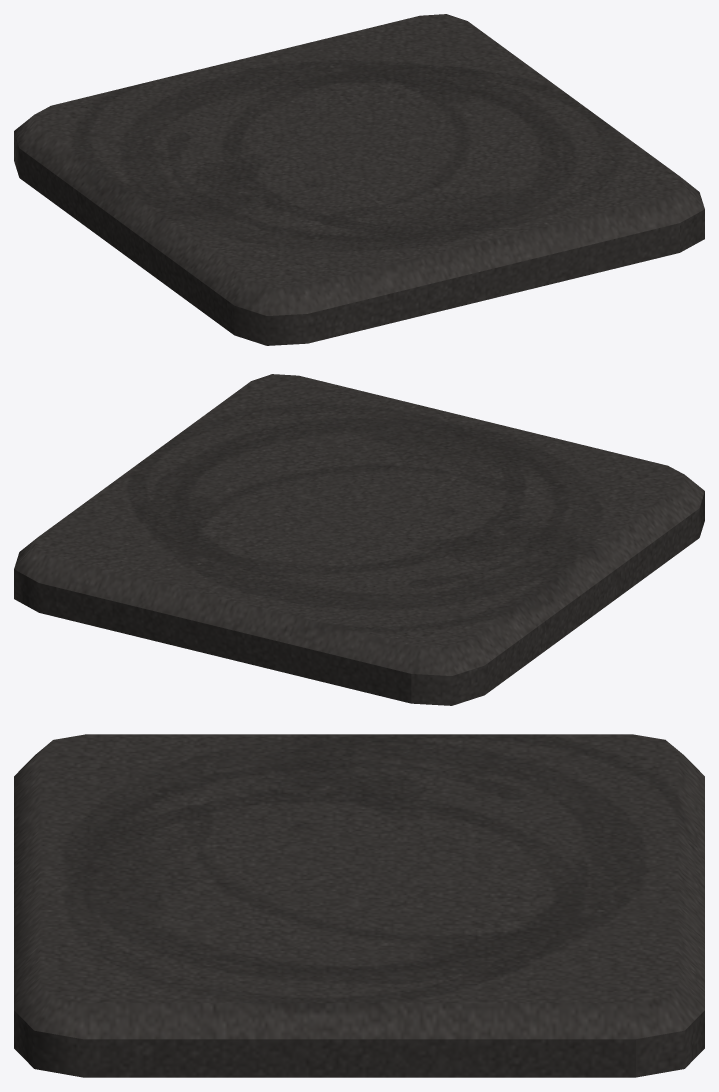
Rendered from SM_Coaster_03.fbx.
3 renders of one model, top to bottom at view 1: azimuth 30°, elevation 25°; view 2: azimuth 150°, elevation 25°; view 3: azimuth 270°, elevation 25°, orthographic. The views are drawn at different scales.
Parts seen in each view (by area): view 1: SM_Coaster_03_LOD0; view 2: SM_Coaster_03_LOD0; view 3: SM_Coaster_03_LOD0.
Boxes of the visible parts, box(x1,y1,x2,y2) form: SM_Coaster_03_LOD0: box(14, 14, 704, 345); SM_Coaster_03_LOD0: box(14, 374, 704, 705); SM_Coaster_03_LOD0: box(14, 734, 704, 1077).
Bounding box in the file's own units: 11.21 × 11.21 × 1.12.
